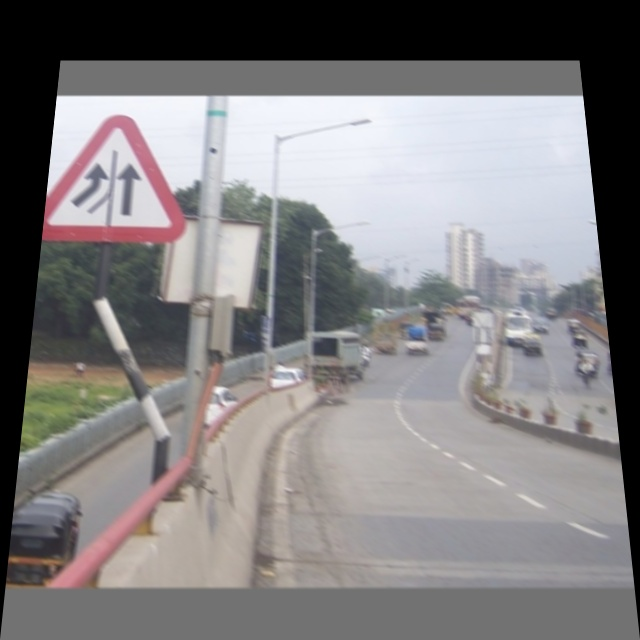Merge_Traffic_Ahead: (52, 120, 189, 243)
